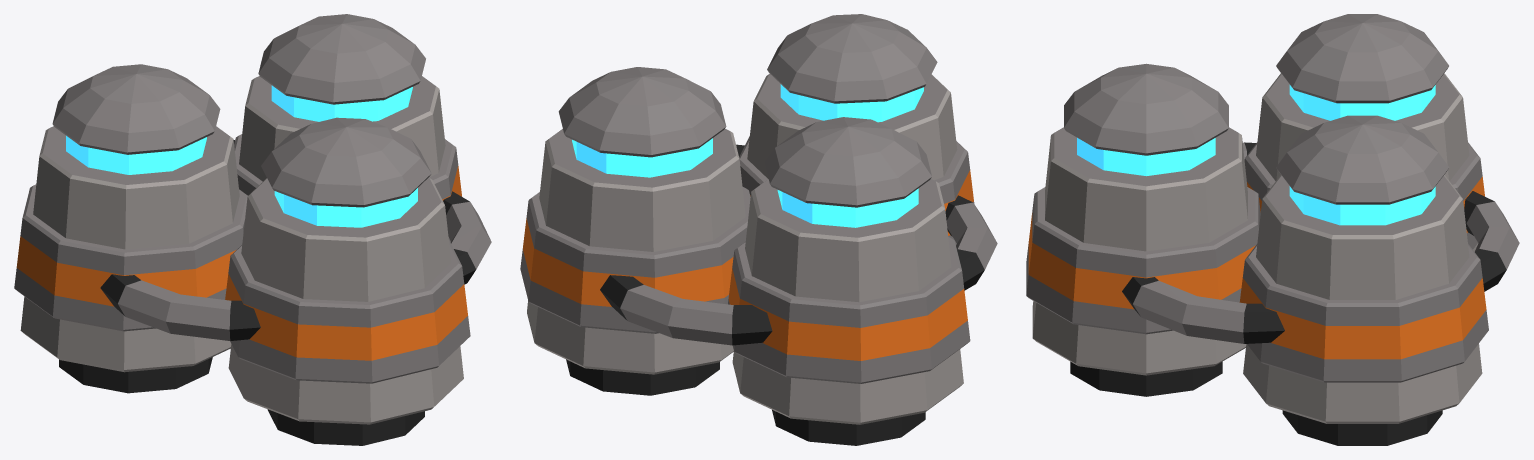
The model's file is scifi_scifi-generator-triple-small.fbx.
The picture shows the model from 3 angles, left to right: view 1: azimuth 30°, elevation 25°; view 2: azimuth 150°, elevation 25°; view 3: azimuth 270°, elevation 25°; orthographic projection.
Visible parts, largest first — view 1: scifi_scifi_generator_triple_small; view 2: scifi_scifi_generator_triple_small; view 3: scifi_scifi_generator_triple_small.
Part boxes in pixels (<box>): scifi_scifi_generator_triple_small: <box>14,14,491,445</box>; scifi_scifi_generator_triple_small: <box>520,14,997,445</box>; scifi_scifi_generator_triple_small: <box>1026,14,1519,445</box>.
Bounding box in the file's own units: 195 × 129 × 200.
